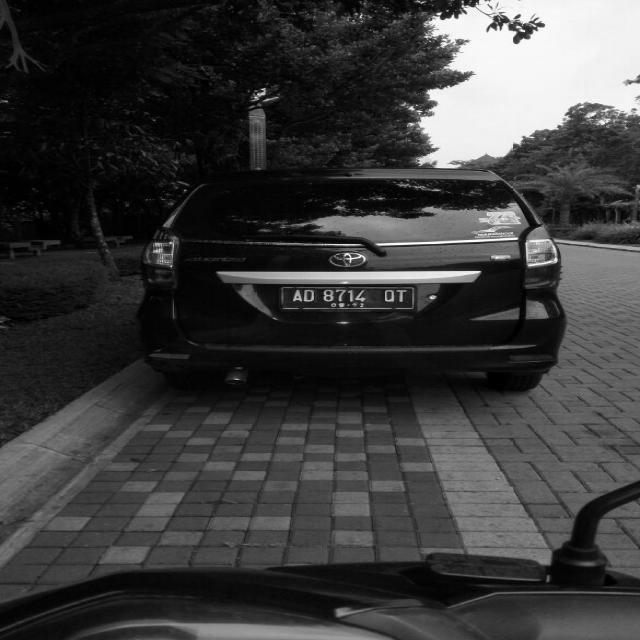1: (346, 288, 356, 306)
4: (355, 288, 368, 309)
7: (335, 287, 345, 307)
8: (322, 288, 333, 308)
A: (292, 290, 302, 302)
D: (303, 290, 316, 304)
Q: (382, 290, 396, 306)
T: (396, 288, 407, 303)
